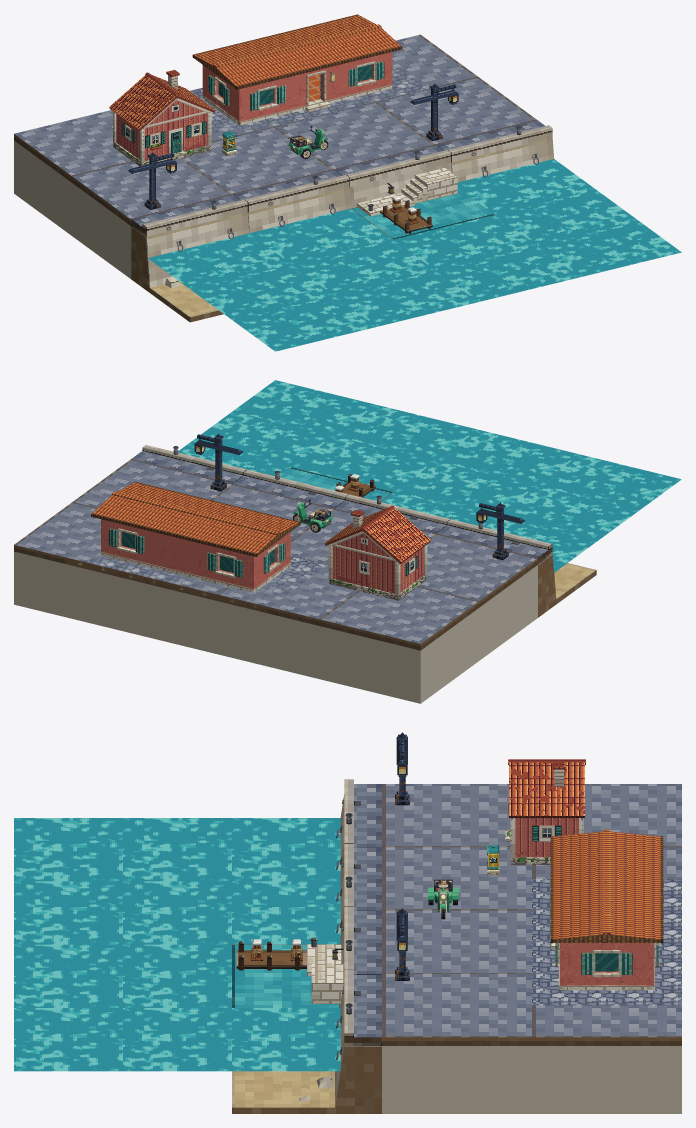
File: coastal-study.glb
3 renders of one model, top to bottom at view 1: azimuth 30°, elevation 25°; view 2: azimuth 150°, elevation 25°; view 3: azimuth 270°, elevation 25°, orthographic. The views are drawn at different scales.
Parts seen in each view (by area): view 1: tile-coral_cottage__roof, STAGING__land-fill, tile-road__terrain.002, tile-road__terrain, tile-road__terrain.001, tile-road__terrain.003, tile-seawall_base__terrain, tile-road__terrain.004, DERIVED__water-extension-3, DERIVED__water-extension-1, DERIVED__water-extension-6, DERIVED__water-extension-0 (+34 smaller); view 2: STAGING__land-fill, tile-coral_cottage__roof, tile-road__terrain.004, tile-road__terrain, DERIVED__water-extension-7, DERIVED__water-extension-5, DERIVED__water-extension-4, DERIVED__water-extension-6, tile-road__terrain.005, DERIVED__water-extension-2, DERIVED__water-extension-0, DERIVED__water-extension-1 (+29 smaller); view 3: STAGING__land-fill, tile-coral_cottage__roof, tile-road__terrain.003, tile-road__terrain.002, tile-road__terrain.001, tile-road__terrain, tile-seawall_base__terrain.002, tile-coral_cottage__terrain, DERIVED__water-extension-0, DERIVED__water-extension-1, DERIVED__water-extension-2, DERIVED__water-extension-3 (+27 smaller).
Part boxes in pixels (left/top/right/bottom): tile-coral_cottage__roof: left=194, top=15, right=400, bottom=88; STAGING__land-fill: left=14, top=140, right=131, bottom=278; tile-road__terrain.002: left=276, top=102, right=435, bottom=169; tile-road__terrain: left=72, top=158, right=232, bottom=225; tile-road__terrain.001: left=183, top=127, right=333, bottom=194; tile-road__terrain.003: left=378, top=77, right=537, bottom=145; tile-seawall_base__terrain: left=131, top=212, right=249, bottom=322; tile-road__terrain.004: left=14, top=110, right=132, bottom=182; DERIVED__water-extension-3: left=495, top=190, right=638, bottom=245; DERIVED__water-extension-1: left=292, top=239, right=435, bottom=295; DERIVED__water-extension-6: left=436, top=246, right=579, bottom=301; DERIVED__water-extension-0: left=190, top=264, right=333, bottom=320; STAGING__land-fill: left=14, top=551, right=537, bottom=703; tile-coral_cottage__roof: left=92, top=482, right=299, bottom=555; tile-road__terrain.004: left=319, top=586, right=479, bottom=650; tile-road__terrain: left=419, top=533, right=537, bottom=607; DERIVED__water-extension-7: left=233, top=380, right=376, bottom=435; DERIVED__water-extension-5: left=436, top=430, right=579, bottom=485; DERIVED__water-extension-4: left=538, top=454, right=681, bottom=510; DERIVED__water-extension-6: left=335, top=405, right=478, bottom=460; tile-road__terrain.005: left=217, top=556, right=356, bottom=625; DERIVED__water-extension-2: left=292, top=436, right=435, bottom=491; DERIVED__water-extension-0: left=504, top=486, right=638, bottom=541; DERIVED__water-extension-1: left=393, top=461, right=537, bottom=512; STAGING__land-fill: left=382, top=1046, right=681, bottom=1113; tile-coral_cottage__roof: left=553, top=831, right=660, bottom=942; tile-road__terrain.003: left=382, top=974, right=531, bottom=1045; tile-road__terrain.002: left=382, top=910, right=531, bottom=973; tile-road__terrain.001: left=382, top=847, right=531, bottom=910; tile-road__terrain: left=382, top=784, right=510, bottom=847; tile-seawall_base__terrain.002: left=232, top=985, right=381, bottom=1113; tile-coral_cottage__terrain: left=532, top=879, right=681, bottom=1005; DERIVED__water-extension-0: left=123, top=818, right=231, bottom=881; DERIVED__water-extension-1: left=123, top=881, right=231, bottom=944; DERIVED__water-extension-2: left=123, top=944, right=231, bottom=1007; DERIVED__water-extension-3: left=123, top=1008, right=231, bottom=1071.
Size of the model in its own units: 26.4 by 8.01 by 29.39.
Materials: 79 (77 with a texture image).
